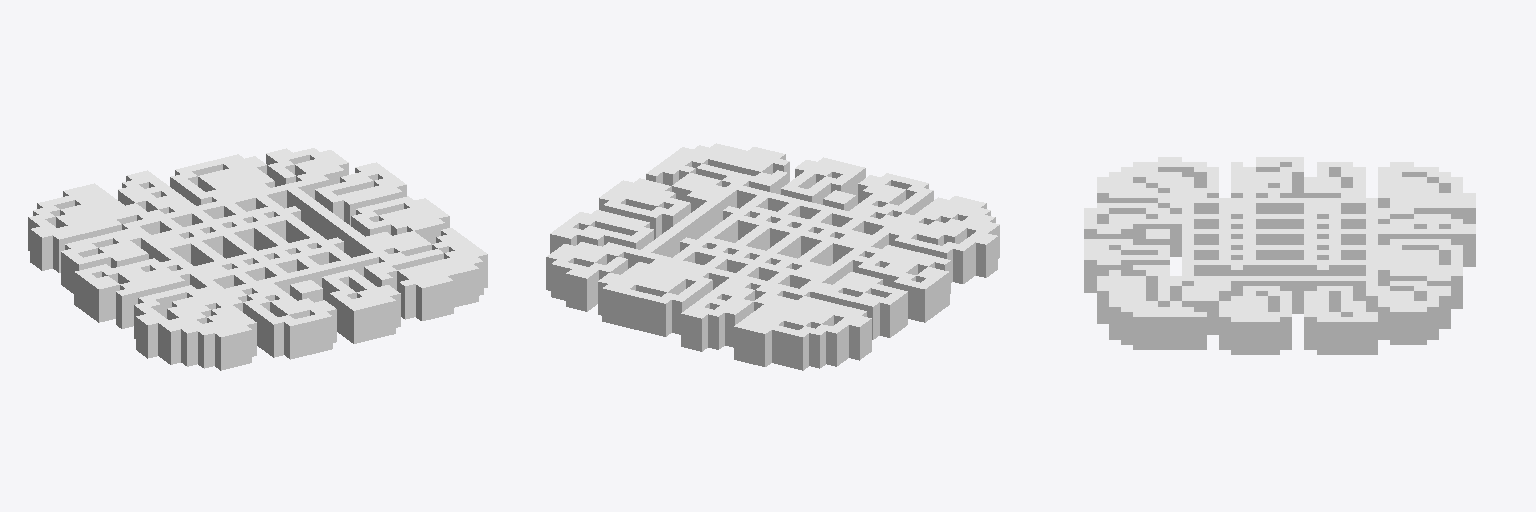
The model's file is TrapdoorClosed-0-TrapdoorClosed.obj.
3 views of the same model, side by side, from view 1: azimuth 30°, elevation 25°; view 2: azimuth 150°, elevation 25°; view 3: azimuth 270°, elevation 25° (orthographic).
Parts seen in each view (by area): view 1: TrapdoorClosed; view 2: TrapdoorClosed; view 3: TrapdoorClosed.
Boxes of the visible parts, x1,y1,x2,y2 form: TrapdoorClosed: [28, 148, 487, 370]; TrapdoorClosed: [546, 143, 999, 370]; TrapdoorClosed: [1084, 157, 1475, 354].
Size of the model in its own units: 3.2 by 0.3 by 3.2.